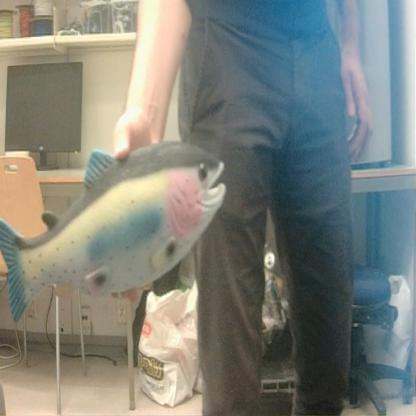rubberfish: (0, 131, 231, 325)
